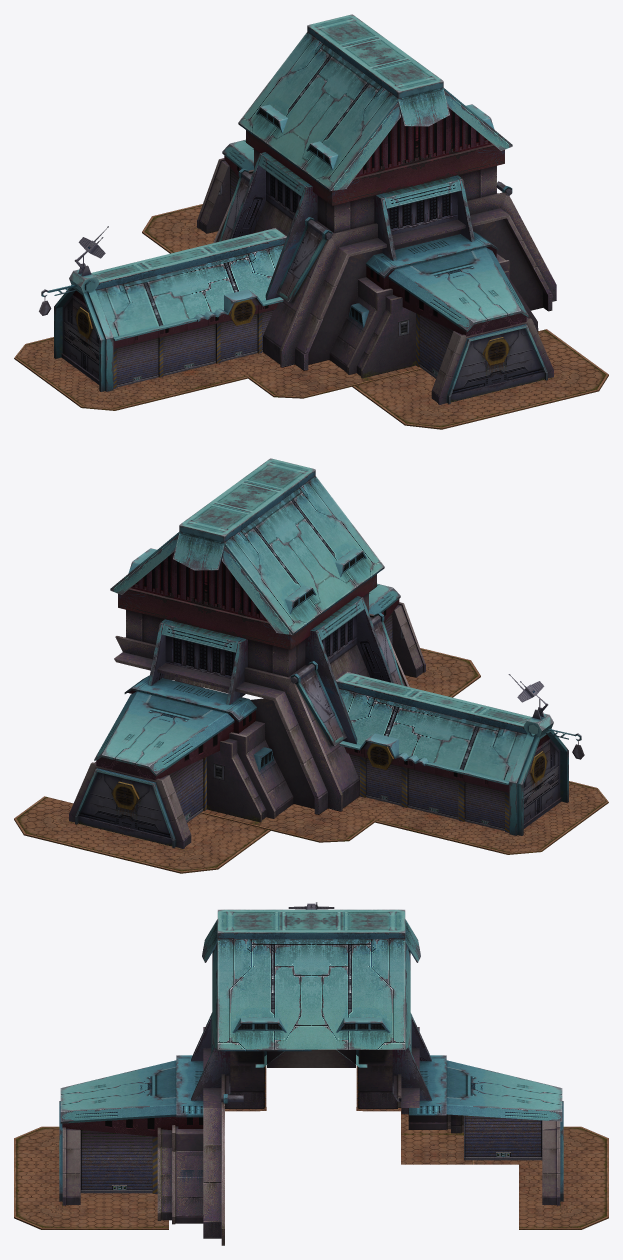
Rendered from yw_huanghunbianjing_zhujian01.FBX.
The picture shows the model from 3 angles, top to bottom: view 1: azimuth 30°, elevation 25°; view 2: azimuth 150°, elevation 25°; view 3: azimuth 270°, elevation 25°; orthographic projection. The views are drawn at different scales.
Visible parts, largest first — view 1: yw_huanghunbianjing_zhujian01; view 2: yw_huanghunbianjing_zhujian01; view 3: yw_huanghunbianjing_zhujian01.
Part boxes in pixels (x1,y1,x2,y2): yw_huanghunbianjing_zhujian01: (14, 14, 608, 429); yw_huanghunbianjing_zhujian01: (14, 458, 608, 873); yw_huanghunbianjing_zhujian01: (14, 902, 608, 1245).
Size of the model in its own units: 2077 by 1051 by 2199.
Materials: 1 (1 with a texture image).
